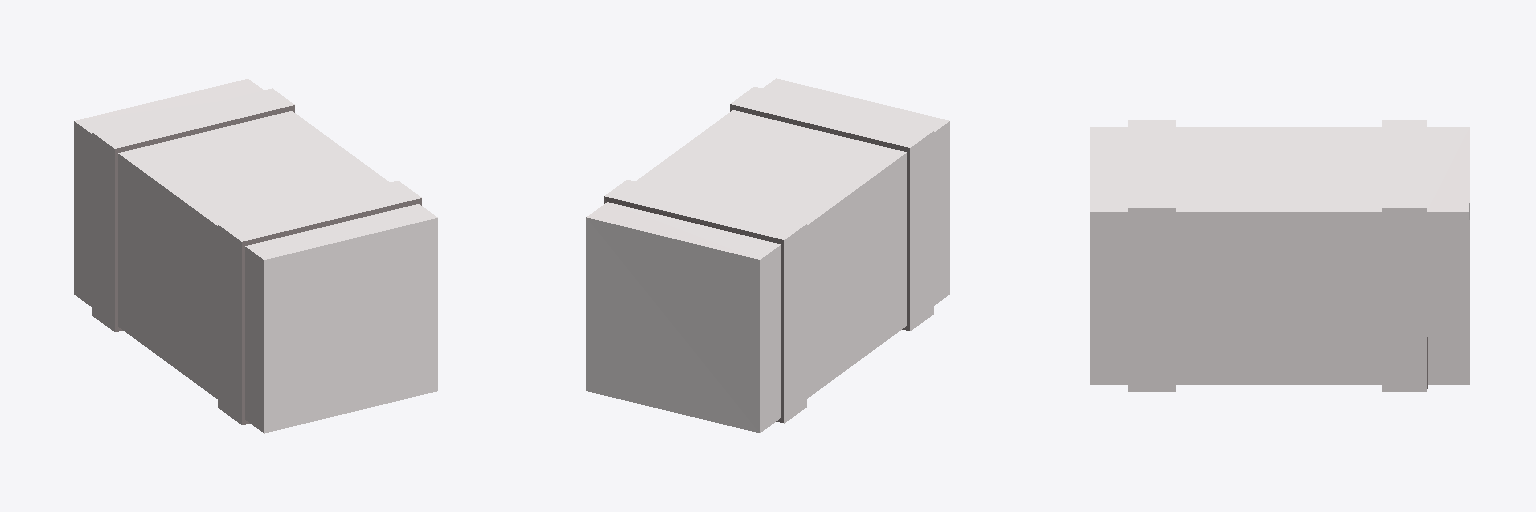
File: Crate_C.obj
The picture shows the model from 3 angles: view 1: azimuth 30°, elevation 25°; view 2: azimuth 150°, elevation 25°; view 3: azimuth 270°, elevation 25°; orthographic projection.
Visible parts, largest first — view 1: Crate_C; view 2: Crate_C; view 3: Crate_C.
Boxes of the visible parts, x1=… form: Crate_C: x1=74, y1=79, x2=437, y2=433; Crate_C: x1=586, y1=78, x2=949, y2=432; Crate_C: x1=1090, y1=120, x2=1469, y2=391.
Bounding box in the file's own units: 11.14 × 10.83 × 20.36.